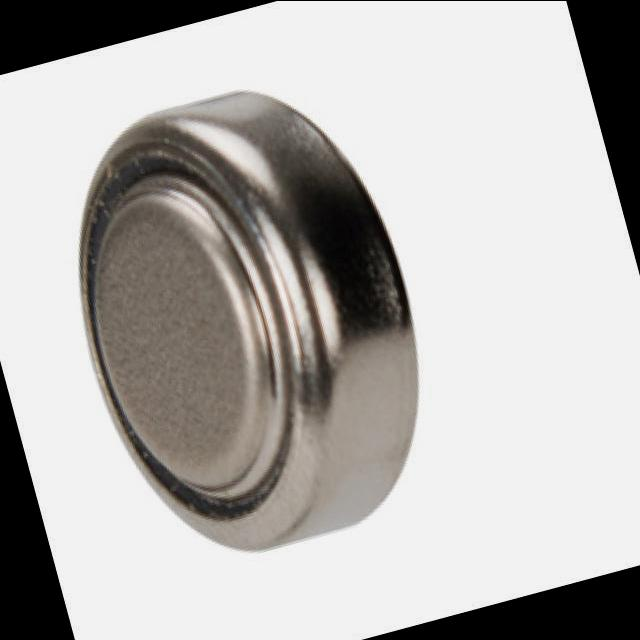COIN: (30, 56, 462, 584)
